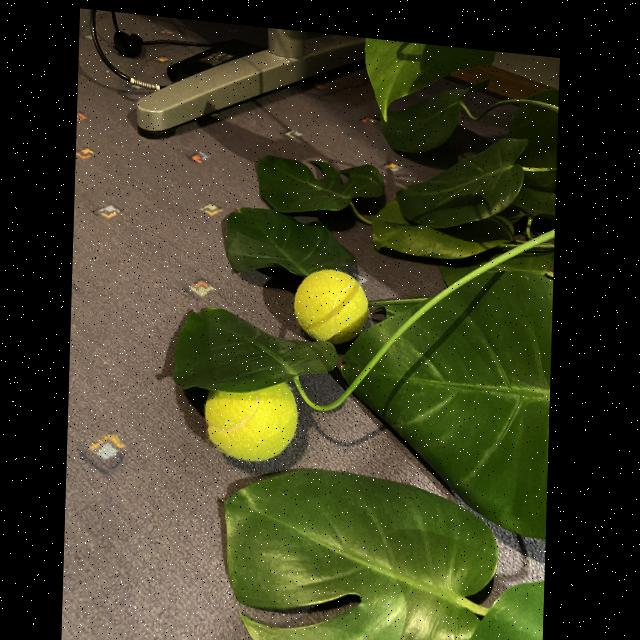Tennisball: (205, 383, 298, 461), (294, 269, 368, 344)
